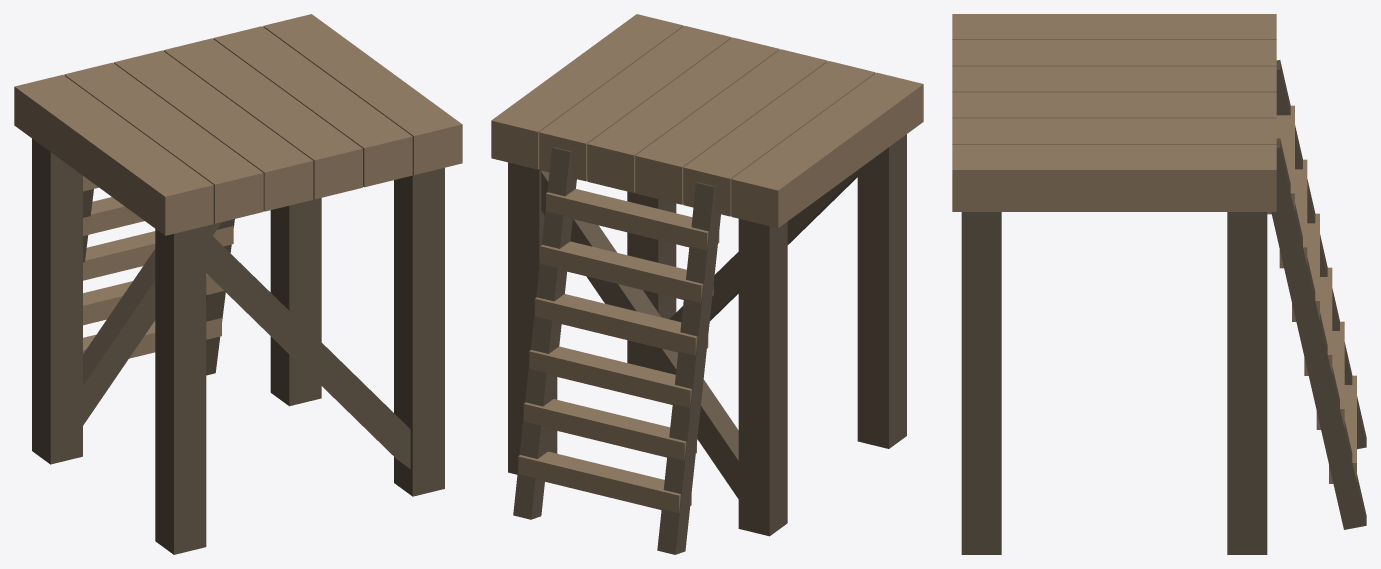
File: Craft_Platform.fbx
3 renders of one model, left to right at view 1: azimuth 30°, elevation 25°; view 2: azimuth 150°, elevation 25°; view 3: azimuth 270°, elevation 25°, orthographic. The views are drawn at different scales.
Parts seen in each view (by area): view 1: Craft_Platform; view 2: Craft_Platform; view 3: Craft_Platform.
Part boxes in pixels (box(x1,y1,x2,y2)): Craft_Platform: box(14, 14, 462, 554); Craft_Platform: box(491, 14, 923, 554); Craft_Platform: box(952, 14, 1366, 554).
Bounding box in the file's own units: 1.2 × 1.41 × 1.34.
